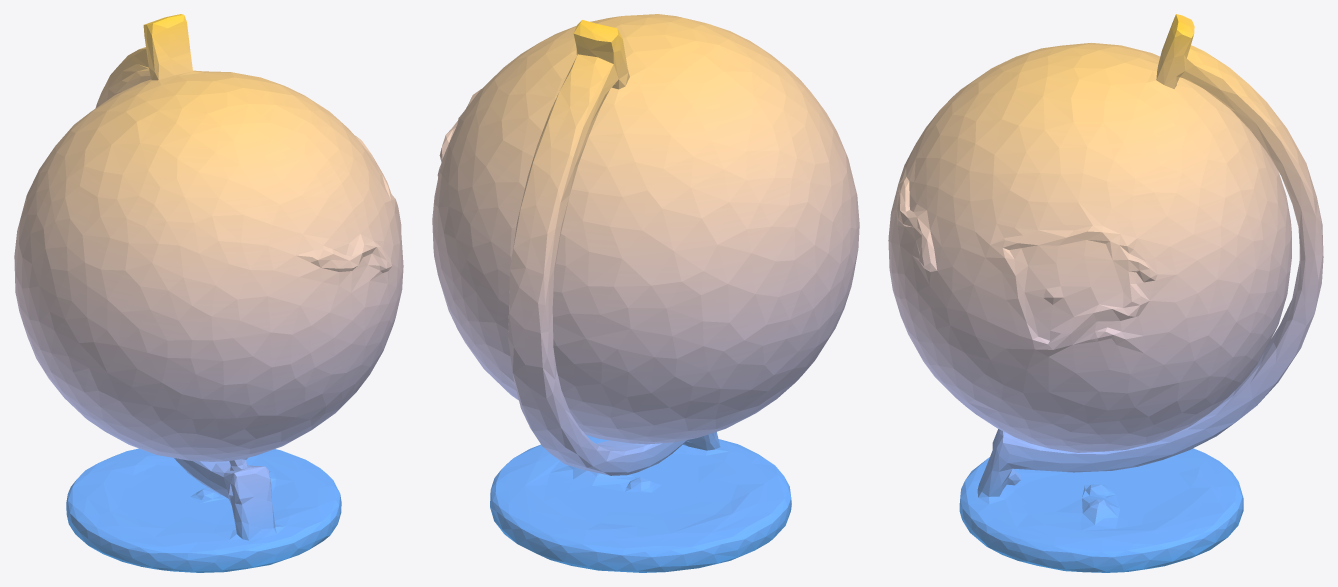
File: 153_cyb_laser_gradient_fish_scales_2882_2026_10_03_3fb685.glb
3 views of the same model, side by side, from view 1: azimuth 30°, elevation 25°; view 2: azimuth 150°, elevation 25°; view 3: azimuth 270°, elevation 25° (orthographic). The views are drawn at different scales.
Parts seen in each view (by area): view 1: geometry_0; view 2: geometry_0; view 3: geometry_0.
Part boxes in pixels (left/top/right/bottom): geometry_0: left=14, top=14, right=403, bottom=572; geometry_0: left=432, top=14, right=859, bottom=572; geometry_0: left=888, top=14, right=1323, bottom=572.
Bounding box in the file's own units: 0.735 × 0.972 × 0.7752.
